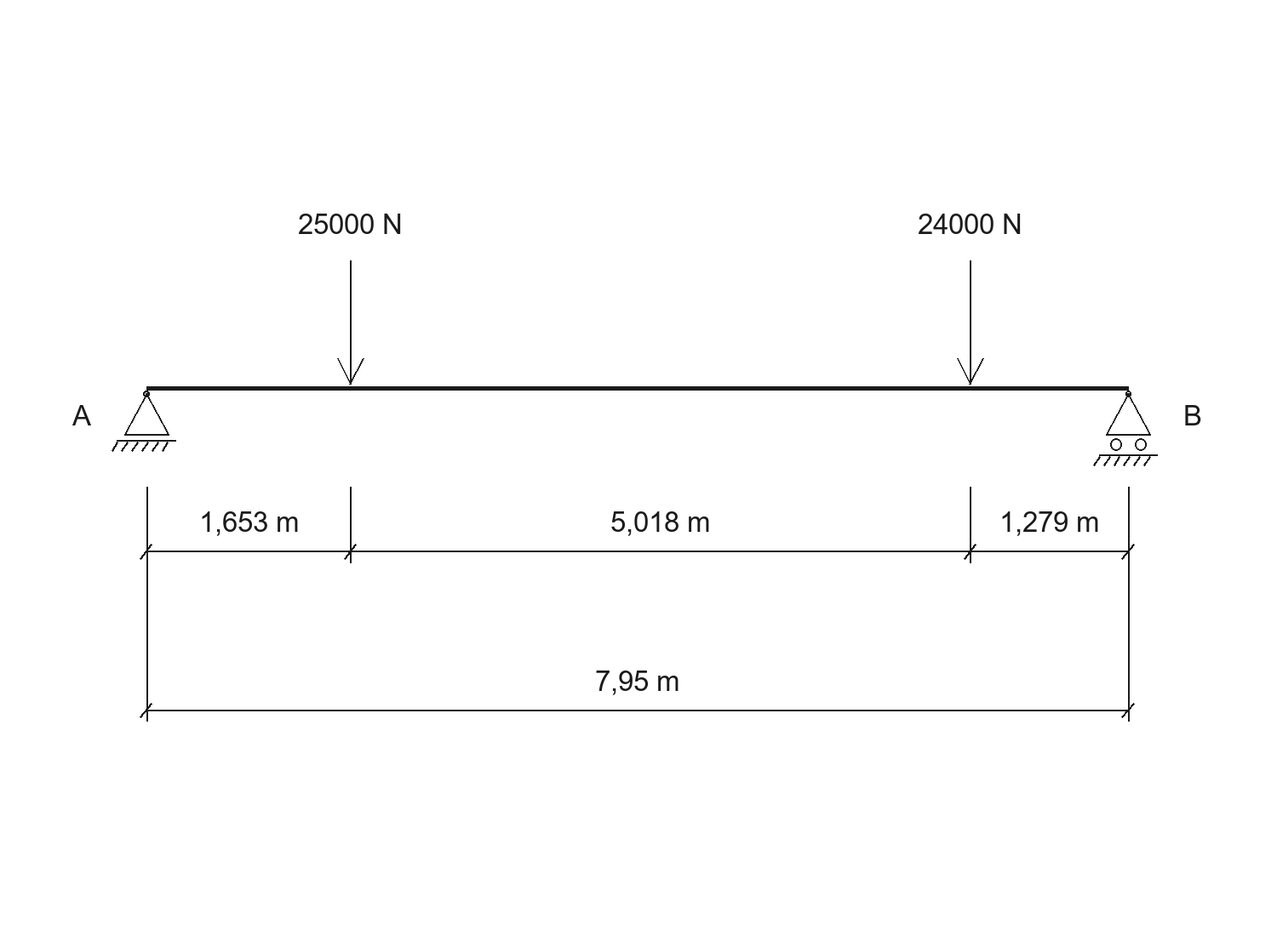pin_support: (112, 391, 176, 452)
point_load: (337, 260, 364, 385), (957, 260, 984, 385)
roller_support: (1093, 391, 1158, 466)
